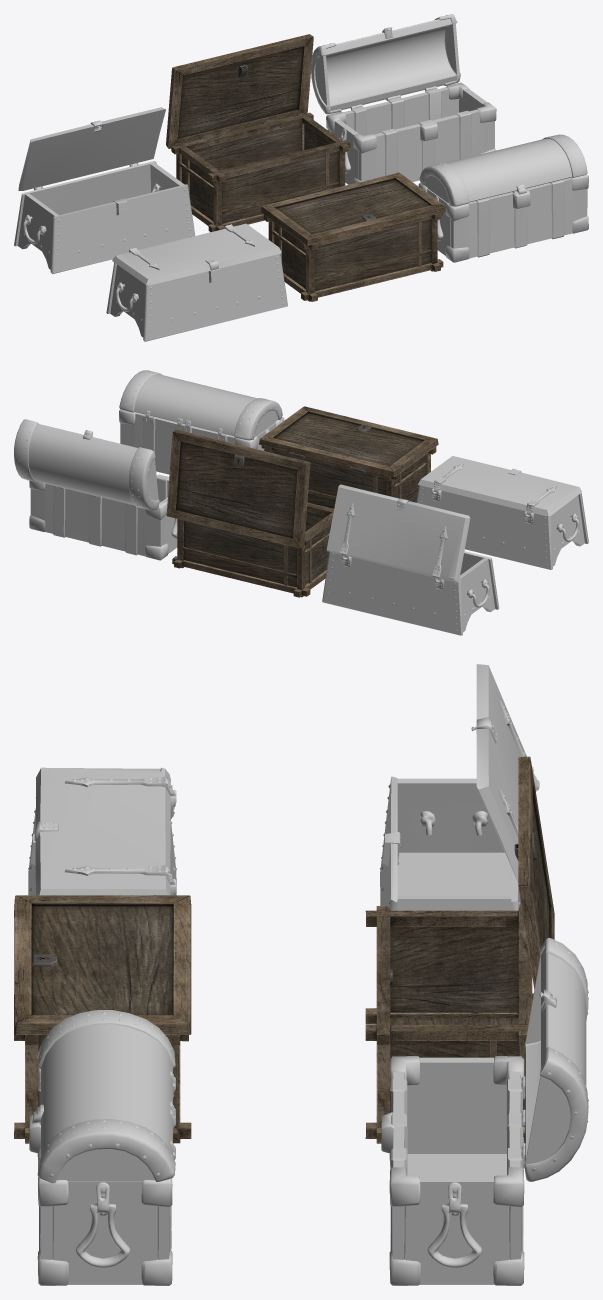
The model's file is Chests3.FBX.
3 renders of one model, top to bottom at view 1: azimuth 30°, elevation 25°; view 2: azimuth 150°, elevation 25°; view 3: azimuth 270°, elevation 25°, orthographic. The views are drawn at different scales.
Visible parts, largest first — view 1: Chest2 (×2), Chest3 (×2), Chest005, Chest006, Chest009, Chest2_002, Chest3_002, Chest1, Chest1 002, Chest1 1; view 2: Chest2_002, Chest2 (×2), Chest3 (×2), Chest1 002, Chest005, Chest3_002, Chest006, Chest009, Chest1, Chest1 1; view 3: Chest3 (×2), Chest009, Chest2 (×2), Chest006, Chest1 1, Chest005, Chest3_002, Chest1 002, Chest2_002, Chest1.
Boxes of the visible parts, x1,y1,x2,y2 form: Chest2 (×2): [261, 172, 445, 301]; Chest3 (×2): [418, 134, 588, 262]; Chest005: [14, 161, 195, 274]; Chest006: [171, 112, 350, 232]; Chest009: [326, 82, 496, 184]; Chest2_002: [166, 34, 313, 148]; Chest3_002: [311, 14, 460, 114]; Chest1: [106, 253, 287, 341]; Chest1 002: [18, 107, 165, 190]; Chest1 1: [112, 223, 281, 285]; Chest2_002: [166, 429, 310, 548]; Chest2 (×2): [259, 406, 438, 508]; Chest3 (×2): [119, 370, 284, 474]; Chest1 002: [326, 484, 470, 582]; Chest005: [322, 551, 498, 635]; Chest3_002: [14, 419, 159, 510]; Chest006: [172, 503, 333, 597]; Chest009: [29, 474, 177, 560]; Chest1: [416, 485, 588, 569]; Chest1 1: [418, 456, 582, 516]; Chest3 (×2): [29, 1010, 175, 1285]; Chest009: [381, 1056, 525, 1285]; Chest2 (×2): [14, 895, 191, 1143]; Chest006: [365, 906, 533, 1143]; Chest1 1: [34, 767, 175, 895]; Chest005: [380, 776, 521, 910]; Chest3_002: [521, 937, 588, 1181]; Chest1 002: [471, 664, 539, 882]; Chest2_002: [514, 756, 554, 1000]; Chest1: [28, 790, 176, 895].
Size of the model in its own units: 16.5 by 4.84 by 9.5.
